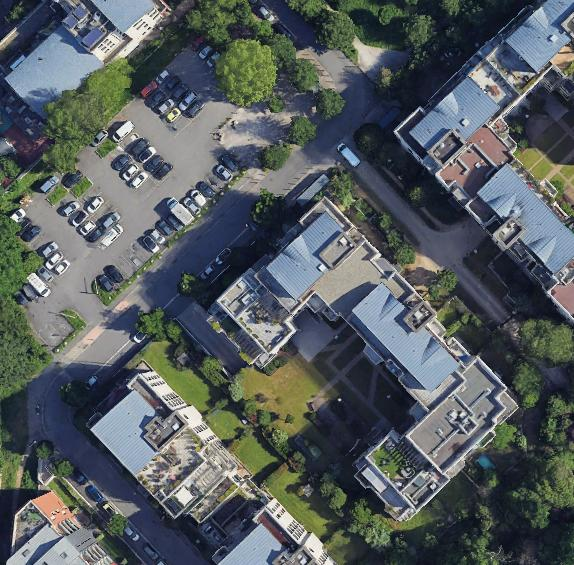immeuble: (249, 196, 479, 428), (391, 76, 574, 347), (346, 351, 526, 526), (403, 0, 574, 170), (80, 360, 248, 527), (0, 0, 171, 120), (207, 269, 302, 367), (6, 492, 114, 564), (219, 499, 336, 564)
